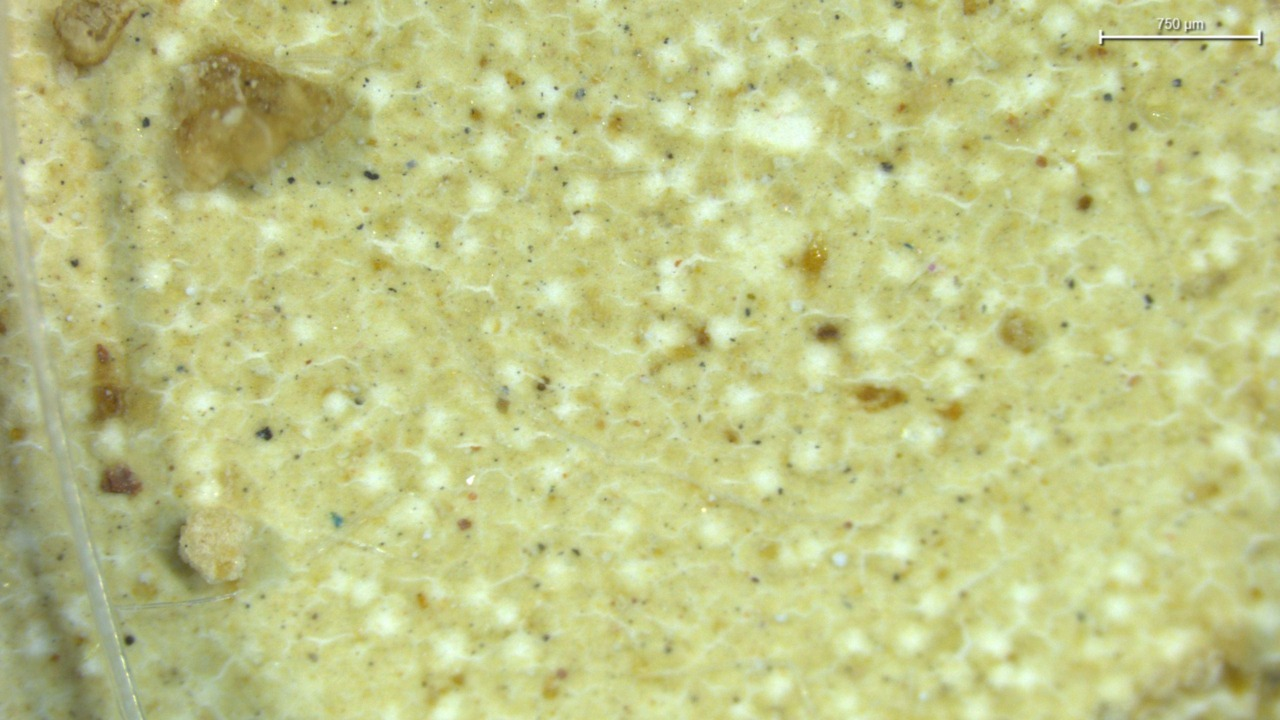microplastic_fragment: (176, 52, 349, 193), (52, 0, 147, 74), (179, 507, 253, 585)
